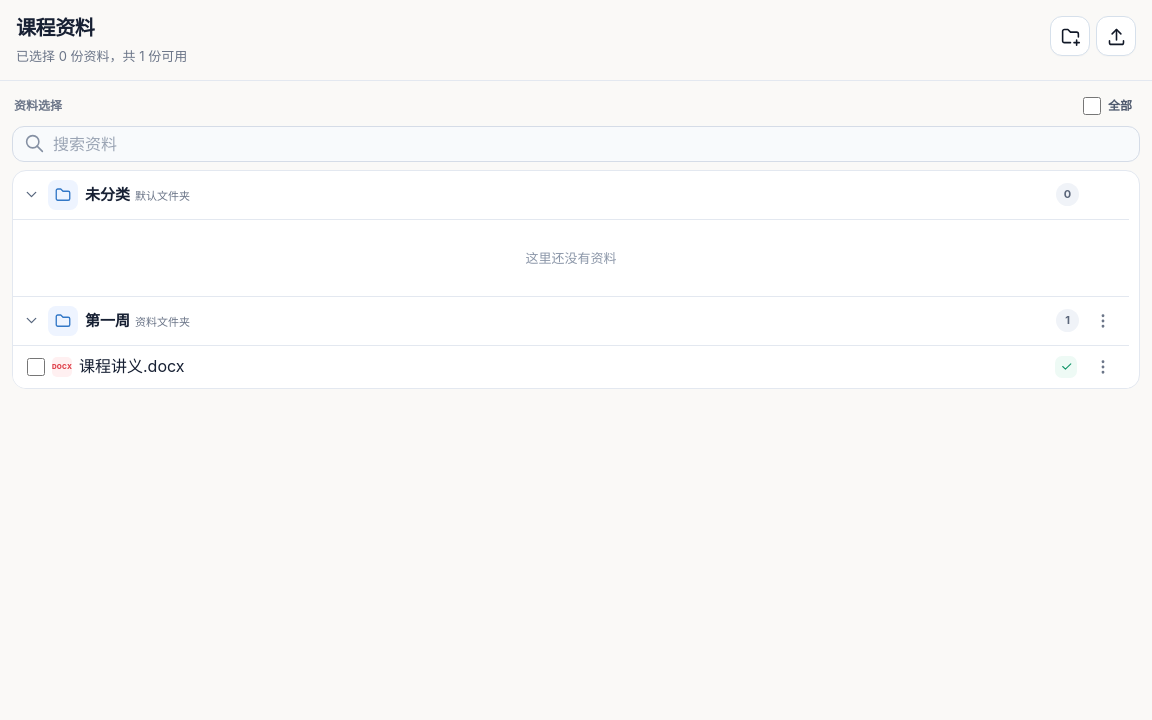
Scenario: MaterialWorkspace › opens 课程讲义.docx with the unified Office preview
The width and height of the screenshot is (1152, 720).
Click the button "课程讲义.docx".
click(132, 366)  # box top-left (79, 354), bottom-right (1049, 379)
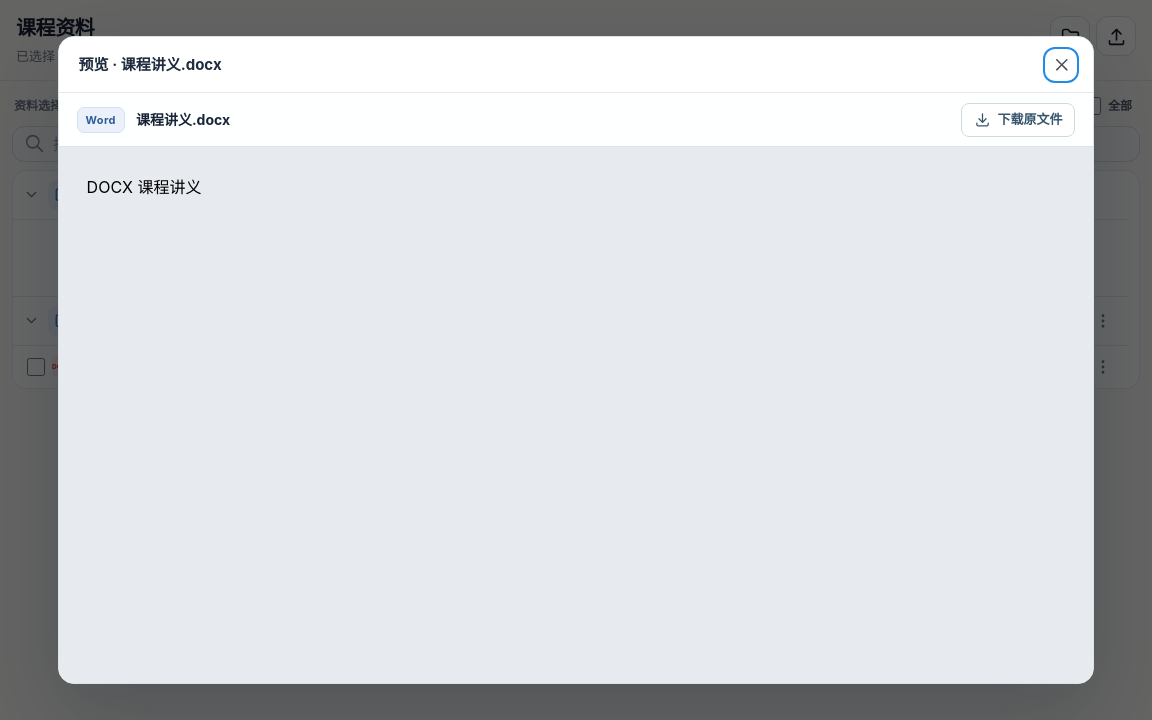
Now the text "DOCX 课程讲义" is shown, box top-left (87, 177), bottom-right (201, 197)
